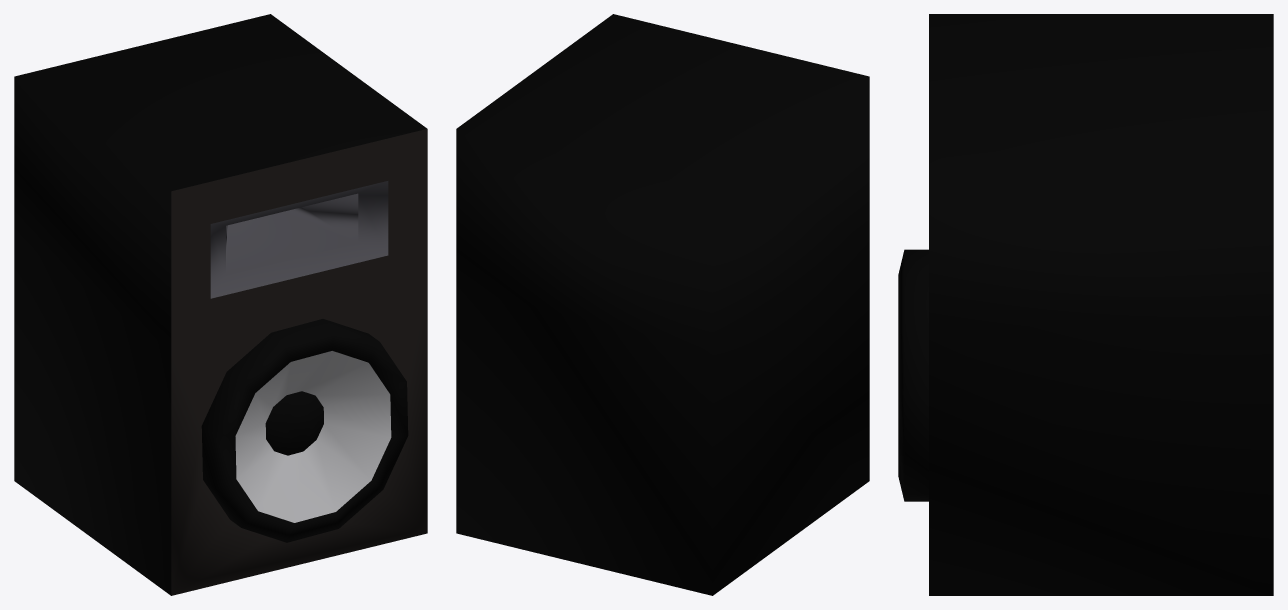
File: SpeakersSmall.glb
3 renders of one model, left to right at view 1: azimuth 30°, elevation 25°; view 2: azimuth 150°, elevation 25°; view 3: azimuth 270°, elevation 25°, orthographic. The views are drawn at different scales.
Visible parts, largest first — view 1: SpeakersSmall; view 2: SpeakersSmall; view 3: SpeakersSmall.
Boxes of the visible parts, box(x1,y1,x2,y2) form: SpeakersSmall: box(14, 14, 427, 595); SpeakersSmall: box(456, 14, 869, 595); SpeakersSmall: box(898, 14, 1273, 595).
Size of the model in its own units: 0.6603 by 0.9963 by 0.7624.
1 material, 1 textured.
